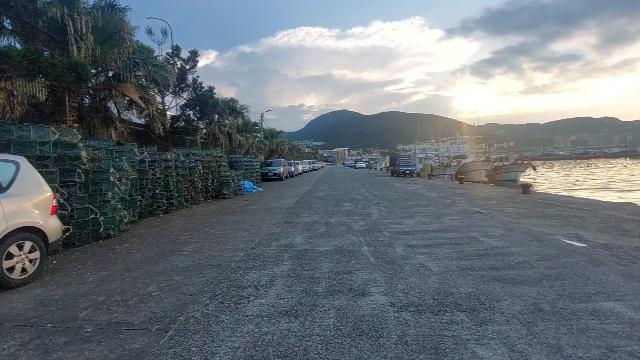pollute: (242, 181, 262, 194)
